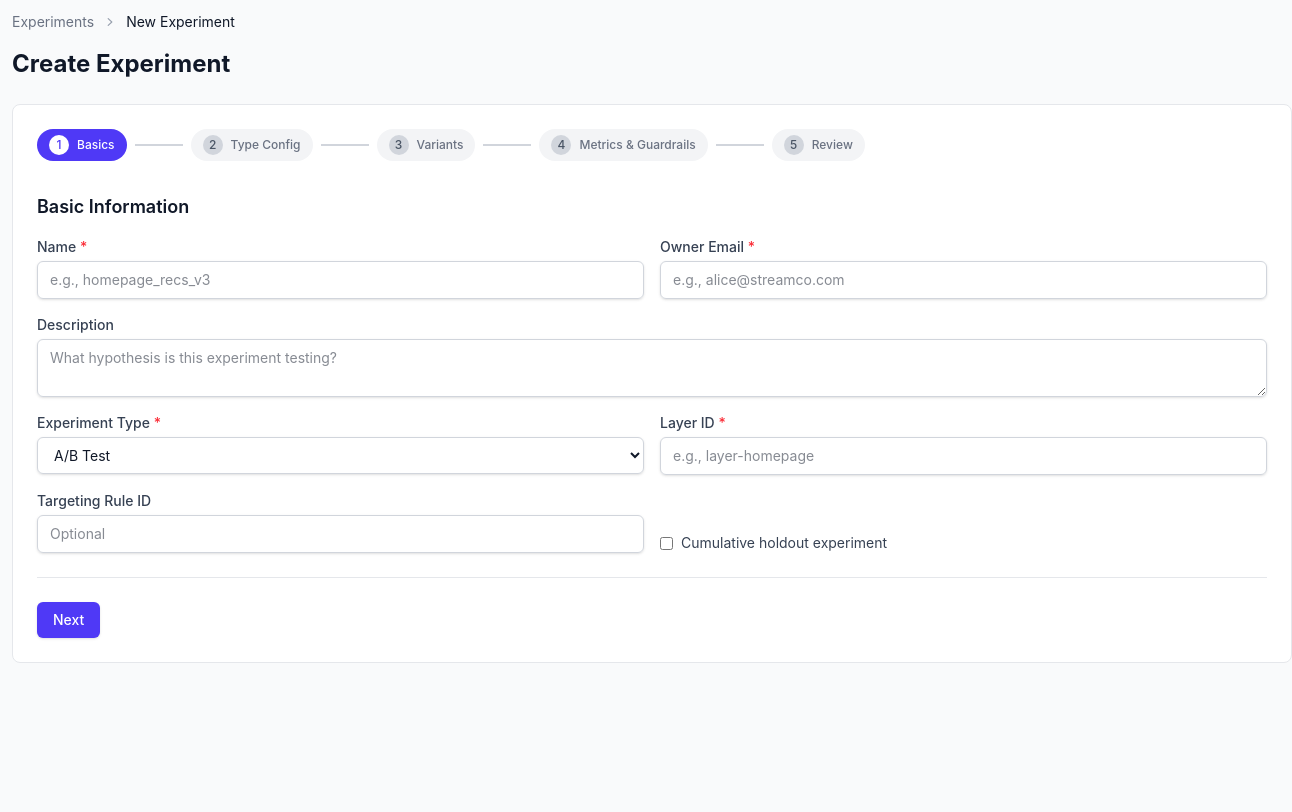
Test: New Experiment Page › shows validation error for missing layer ID
Type "test_experiment" into the field labelled "Name *".
click(340, 280); type("test_experiment")  # box [37,261,644,299]
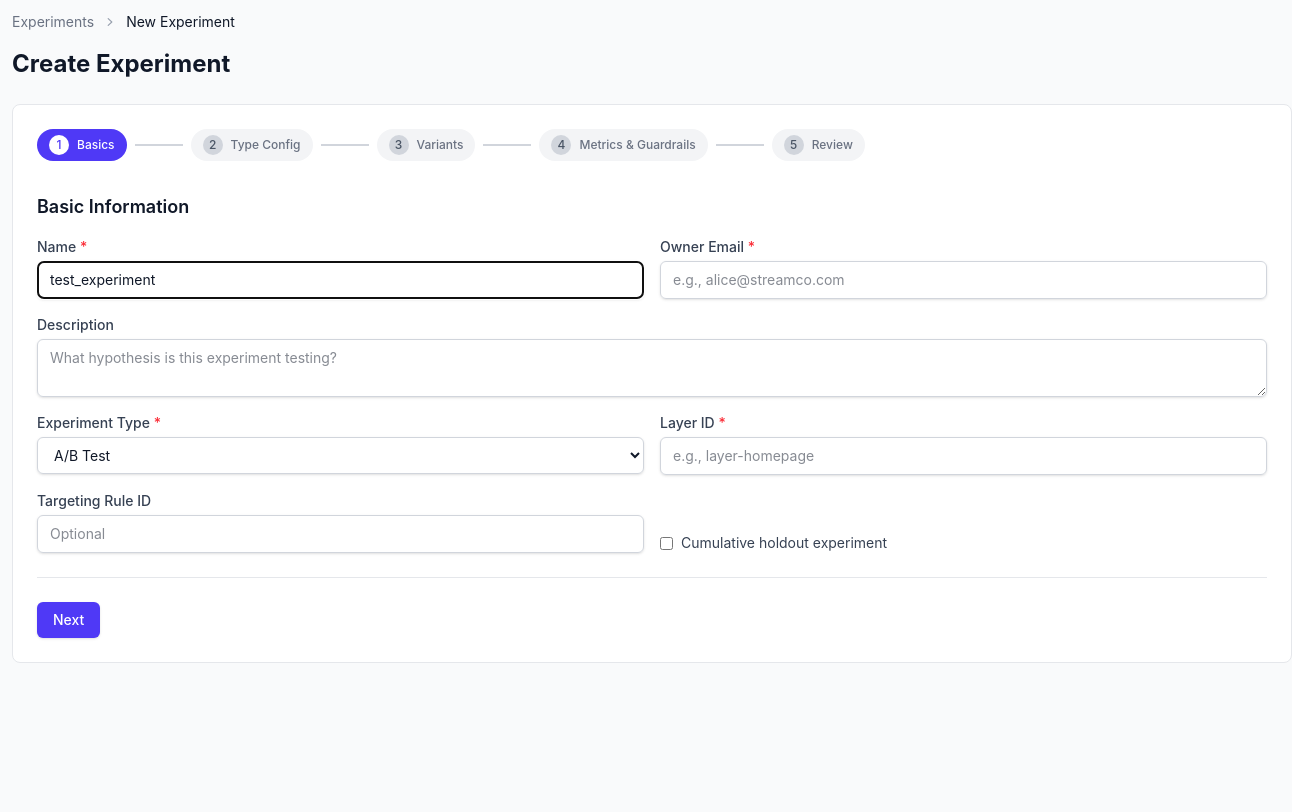
Type "test@streamco.com" into the field labelled "Owner Email *".
click(964, 280); type("test@streamco.com")  # box [660,261,1267,299]
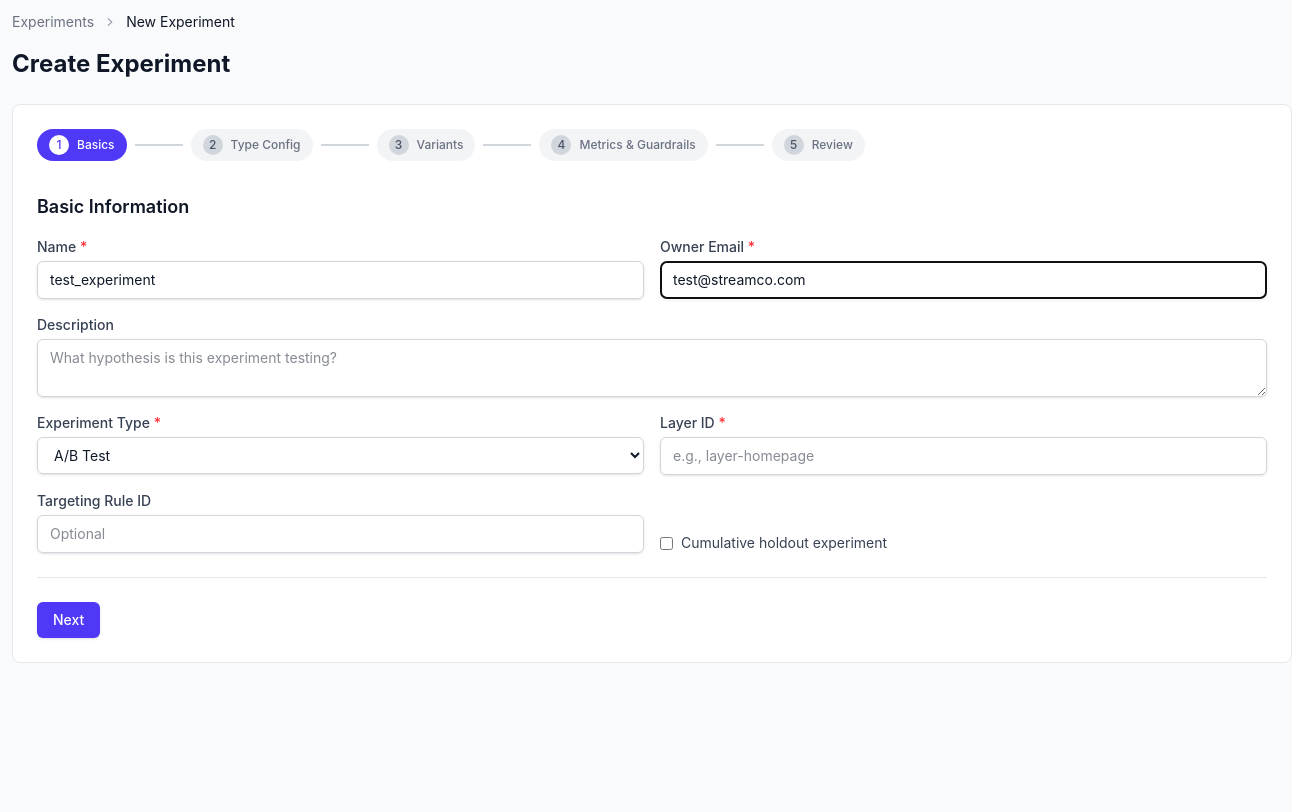
Click the button "Next".
click(69, 620)  # box [37,602,100,638]
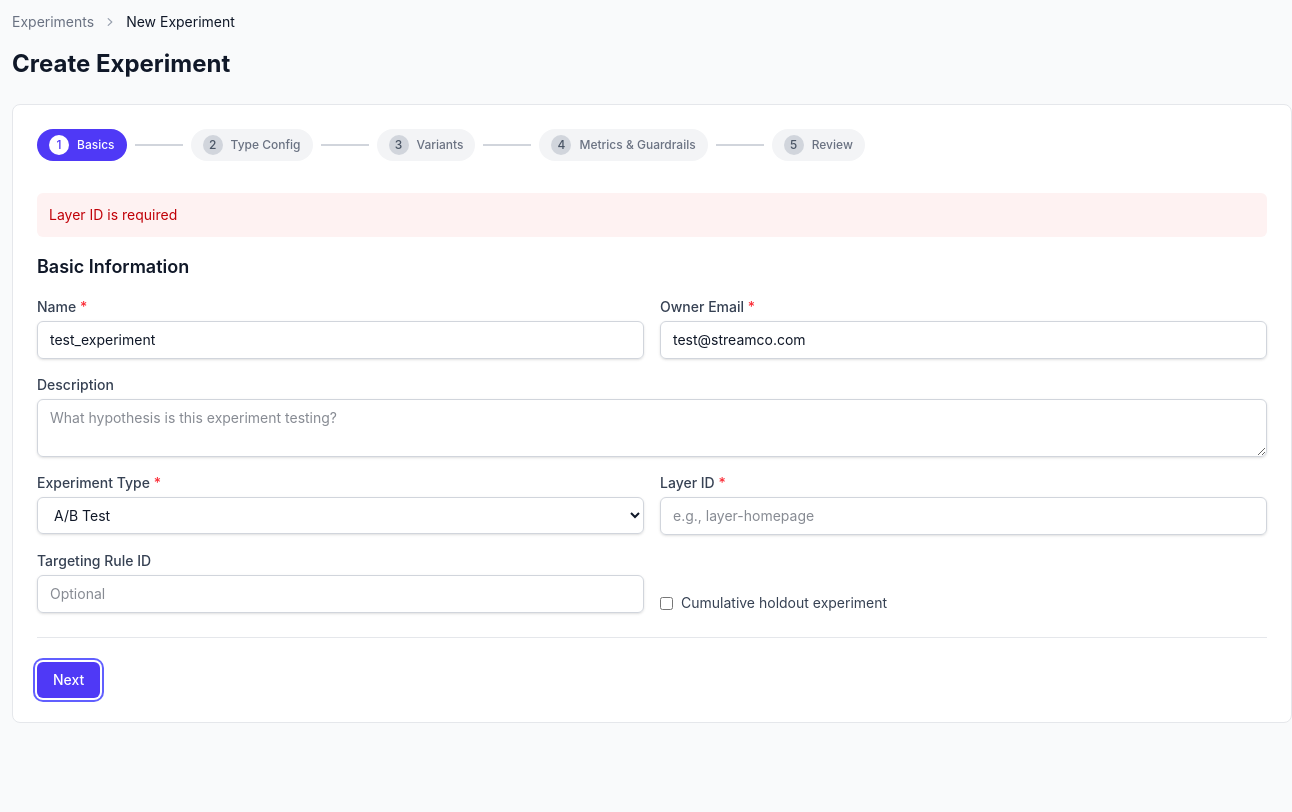
Now the message shows "Layer", box [49,206,177,223]
